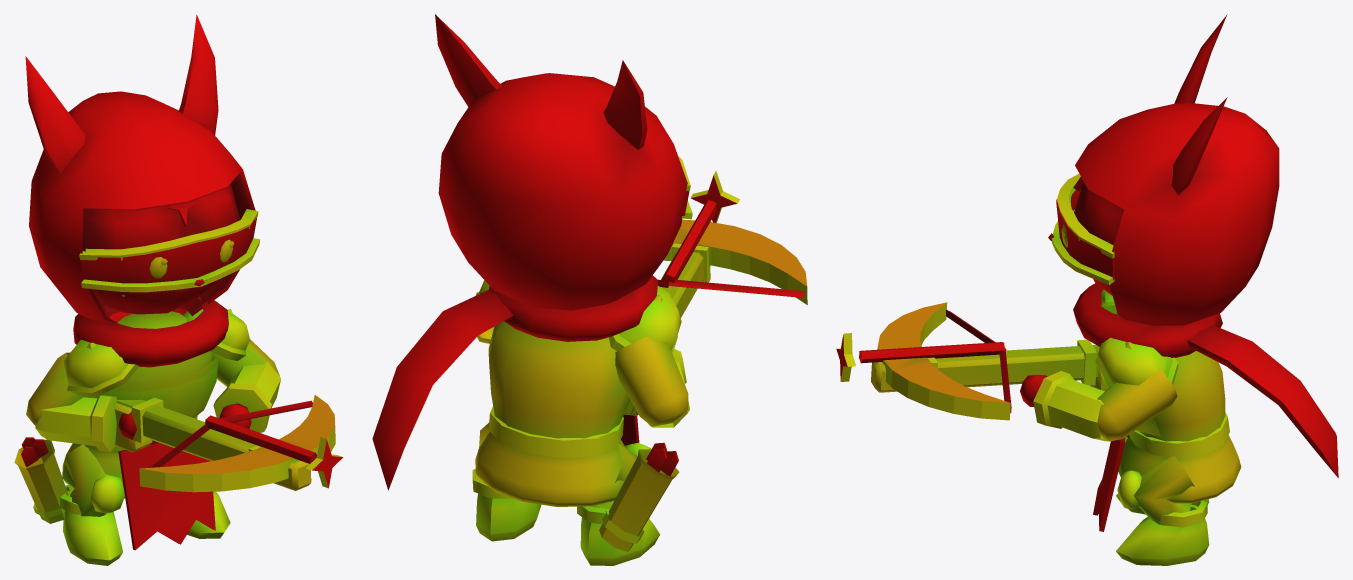
The model's file is StarHunter.glb.
3 renders of one model, left to right at view 1: azimuth 30°, elevation 25°; view 2: azimuth 150°, elevation 25°; view 3: azimuth 270°, elevation 25°, orthographic. The views are drawn at different scales.
Parts seen in each view (by area): view 1: StarHunter; view 2: StarHunter; view 3: StarHunter.
Part boxes in pixels (bbox=[...]): StarHunter: bbox=[14, 15, 343, 565]; StarHunter: bbox=[372, 14, 807, 565]; StarHunter: bbox=[836, 14, 1338, 565].
Size of the model in its own units: 0.4276 by 0.8877 by 0.8489.
